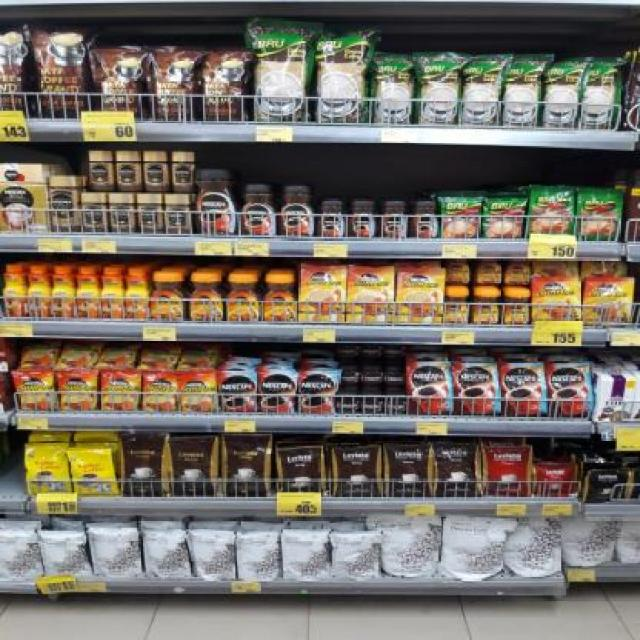Coffee: (196, 170, 238, 236), (398, 268, 444, 324), (349, 266, 394, 323), (301, 266, 345, 322), (408, 362, 452, 415), (503, 362, 546, 416), (532, 277, 578, 326), (583, 280, 632, 326), (456, 363, 499, 414), (240, 184, 278, 236), (277, 184, 315, 236), (552, 365, 590, 417), (48, 176, 80, 232), (12, 370, 54, 412), (260, 275, 298, 320), (224, 273, 261, 319), (150, 274, 185, 321), (190, 273, 224, 321), (218, 372, 257, 413), (56, 370, 95, 410), (179, 372, 216, 413), (298, 372, 334, 413), (101, 371, 139, 409), (260, 372, 294, 413), (100, 265, 126, 318), (75, 266, 100, 320), (144, 372, 176, 410), (124, 268, 148, 318), (4, 264, 27, 316), (53, 265, 75, 318), (28, 265, 50, 317), (164, 194, 193, 233), (87, 150, 113, 192), (319, 198, 347, 237), (502, 285, 530, 324), (472, 285, 500, 324), (445, 286, 472, 326), (114, 151, 140, 192), (380, 200, 408, 237), (138, 194, 164, 233), (349, 199, 376, 236), (59, 342, 96, 369), (111, 194, 137, 232), (172, 151, 196, 192), (409, 201, 437, 236), (80, 193, 105, 232), (20, 342, 57, 368), (139, 344, 176, 370), (145, 152, 169, 192), (98, 342, 134, 368), (180, 343, 215, 369), (475, 258, 502, 284), (504, 260, 530, 284), (446, 259, 469, 284), (337, 364, 361, 385), (385, 392, 407, 414), (338, 391, 360, 412), (364, 392, 385, 413), (361, 366, 384, 385), (385, 367, 407, 384), (383, 344, 405, 359), (361, 345, 382, 360), (336, 344, 356, 359)
